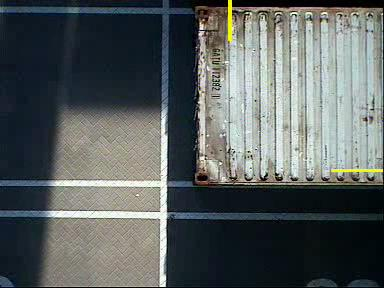groundmarker_2: (78, 29, 201, 135)
